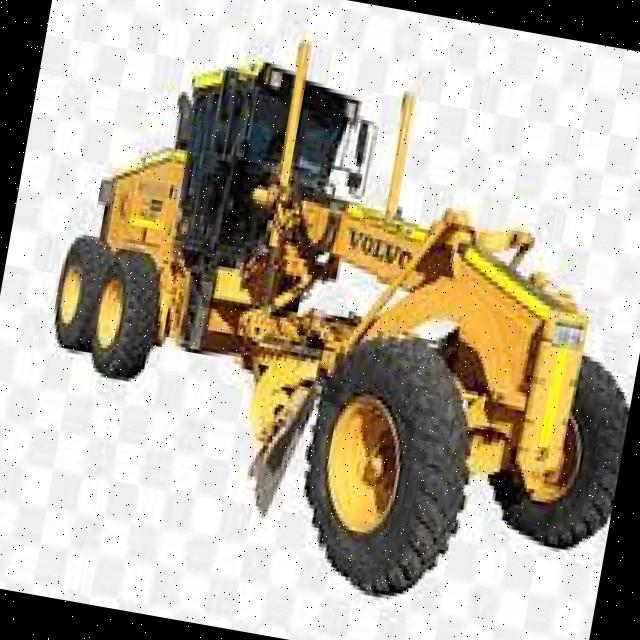Grader: (1, 13, 640, 640)
